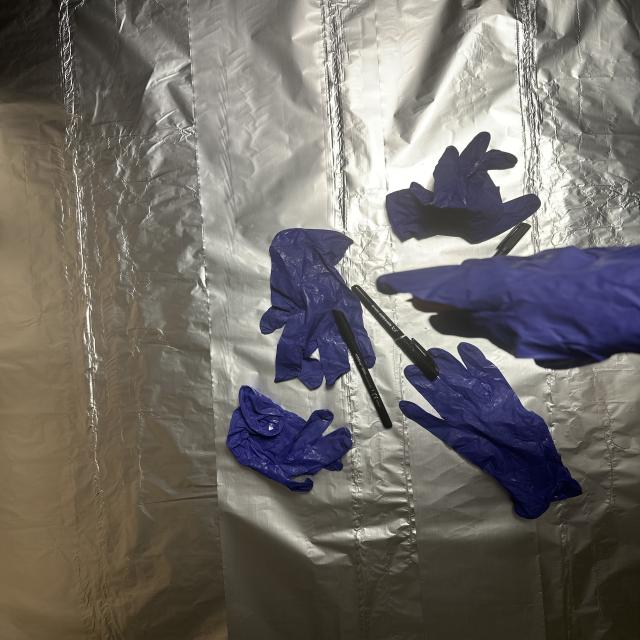glove_not_fitted: (386, 250, 639, 379)
